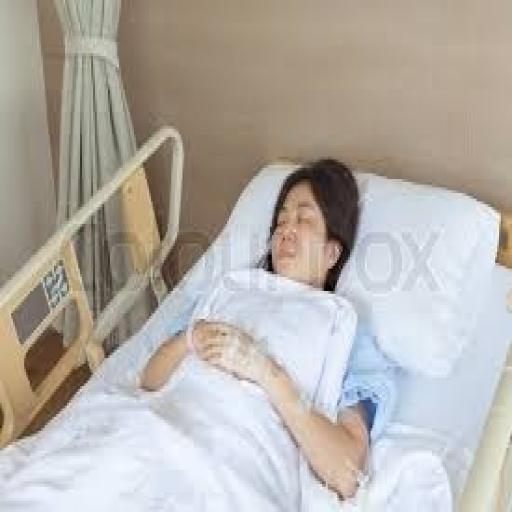sleeping: (136, 151, 389, 506)
